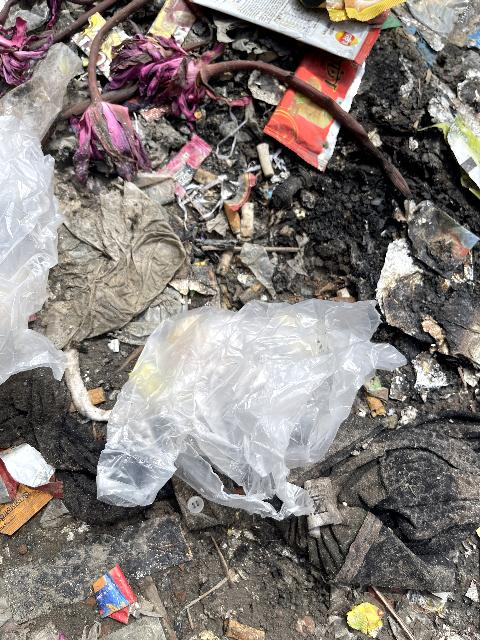polythene: (87, 302, 392, 509)
